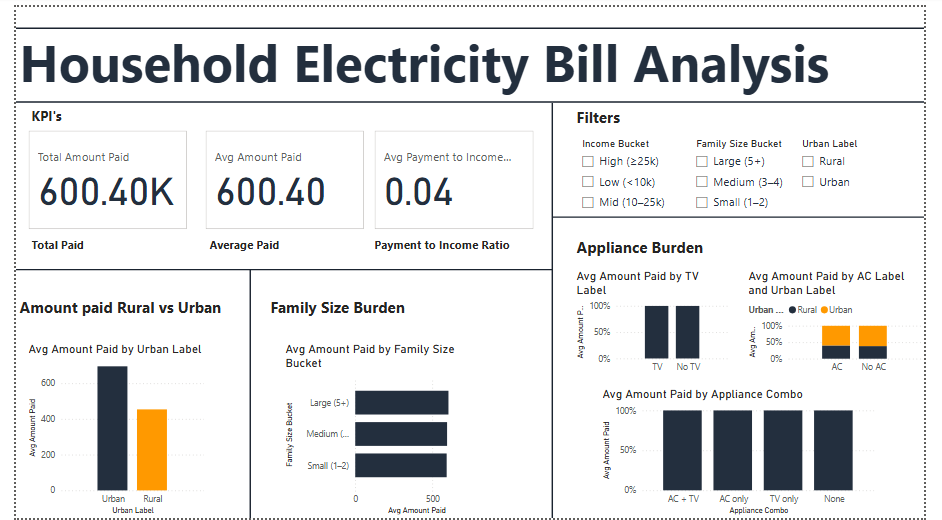

The page's visual inventory and layout, read from the dashboard file:
{"tool":"powerbi","page":{"name":"Page 1","canvas":[1280,720],"ordinal":0},"visuals":[{"type":"cardVisual","fields":{"Data":["Household energy bill data.Total Amount Paid"]},"box":[12,169.3,233.3,149.3],"z":0},{"type":"cardVisual","fields":{"Data":["Household energy bill data.Avg Amount Paid"]},"box":[261.3,169.3,233.3,149.3],"z":1000},{"type":"cardVisual","fields":{"Data":["Household energy bill data.Avg Payment to Income Ratio"]},"box":[500,169.3,234.7,149.3],"z":2000},{"type":"clusteredColumnChart","fields":{"Category":["Household energy bill data.Urban Label"],"Y":["Household energy bill data.Avg Amount Paid"]},"box":[12,472,257.3,248],"z":3000},{"type":"clusteredBarChart","fields":{"Category":["Household energy bill data.Family Size Bucket"],"Y":["Household energy bill data.Avg Amount Paid"]},"box":[374.7,472,292,248],"z":4000},{"type":"hundredPercentStackedColumnChart","fields":{"Category":["Household energy bill data.AC Label"],"Y":["Household energy bill data.Avg Amount Paid"]},"box":[1026.8,369,253.5,156.3],"z":5000},{"type":"hundredPercentStackedColumnChart","fields":{"Category":["Household energy bill data.TV Label"],"Y":["Household energy bill data.Avg Amount Paid"]},"box":[784,369.3,224,156],"z":6000},{"type":"hundredPercentStackedColumnChart","fields":{"Category":["Household energy bill data.Appliance Combo"],"Y":["Household energy bill data.Avg Amount Paid"]},"box":[821.1,535.2,393,184.5],"z":7000},{"type":"slicer","fields":{"Values":["Household energy bill data.Urban Label"]},"box":[1094.7,178.7,185.3,137.3],"z":8000},{"type":"slicer","fields":{"Values":["Household energy bill data.Income Bucket"]},"box":[784,178.7,148,117.3],"z":9000},{"type":"slicer","fields":{"Values":["Household energy bill data.Family Size Bucket"]},"box":[945.3,178.7,161.3,137.3],"z":10000},{"type":"textbox","box":[0,22.7,1152,128],"z":10001},{"type":"textbox","box":[17.3,134.7,62.7,34.7],"z":10002},{"type":"textbox","box":[784,134.7,93.3,44],"z":10003},{"type":"shape","box":[0,96,1280,76],"z":10004},{"type":"shape","box":[0,360,756,18.7],"z":10005},{"type":"shape","box":[756,286.7,524,17.3],"z":10006},{"type":"shape","box":[0,0,1280,60],"z":10007},{"type":"shape","box":[738.7,134.7,34.7,585.3],"z":10008},{"type":"textbox","box":[0,402.7,336,50.7],"z":10009},{"type":"shape","box":[324,369.3,12,350.7],"z":10010},{"type":"textbox","box":[353.3,402.7,274.7,50.7],"z":10011},{"type":"textbox","box":[784,318.7,300,50.7],"z":10012},{"type":"textbox","box":[16.9,318.3,132.4,33.8],"z":10013},{"type":"textbox","box":[267.6,318.3,123.9,33.8],"z":10014},{"type":"textbox","box":[500,318.3,214.1,33.8],"z":10015}]}

Visuals, with their boxes in screenshot pixels (x1, y1, x2, y2), scaled from the page's 1280x720 canvas onto the 942x520 screenshot:
cardVisual - Household energy bill data.Total Amount Paid: box=[9, 122, 181, 230]
cardVisual - Household energy bill data.Avg Amount Paid: box=[192, 122, 364, 230]
cardVisual - Household energy bill data.Avg Payment to Income Ratio: box=[368, 122, 541, 230]
clusteredColumnChart - Household energy bill data.Urban Label x Household energy bill data.Avg Amount Paid: box=[9, 341, 198, 519]
clusteredBarChart - Household energy bill data.Family Size Bucket x Household energy bill data.Avg Amount Paid: box=[276, 341, 491, 519]
hundredPercentStackedColumnChart - Household energy bill data.AC Label x Household energy bill data.Avg Amount Paid: box=[756, 266, 941, 379]
hundredPercentStackedColumnChart - Household energy bill data.TV Label x Household energy bill data.Avg Amount Paid: box=[577, 267, 742, 379]
hundredPercentStackedColumnChart - Household energy bill data.Appliance Combo x Household energy bill data.Avg Amount Paid: box=[604, 387, 894, 519]
slicer - Household energy bill data.Urban Label: box=[806, 129, 941, 228]
slicer - Household energy bill data.Income Bucket: box=[577, 129, 686, 214]
slicer - Household energy bill data.Family Size Bucket: box=[696, 129, 814, 228]
textbox: box=[0, 16, 848, 109]
textbox: box=[13, 97, 59, 122]
textbox: box=[577, 97, 646, 129]
shape: box=[0, 69, 941, 124]
shape: box=[0, 260, 556, 274]
shape: box=[556, 207, 941, 220]
shape: box=[0, 0, 941, 43]
shape: box=[544, 97, 569, 519]
textbox: box=[0, 291, 247, 327]
shape: box=[238, 267, 247, 519]
textbox: box=[260, 291, 462, 327]
textbox: box=[577, 230, 798, 267]
textbox: box=[12, 230, 110, 254]
textbox: box=[197, 230, 288, 254]
textbox: box=[368, 230, 526, 254]
